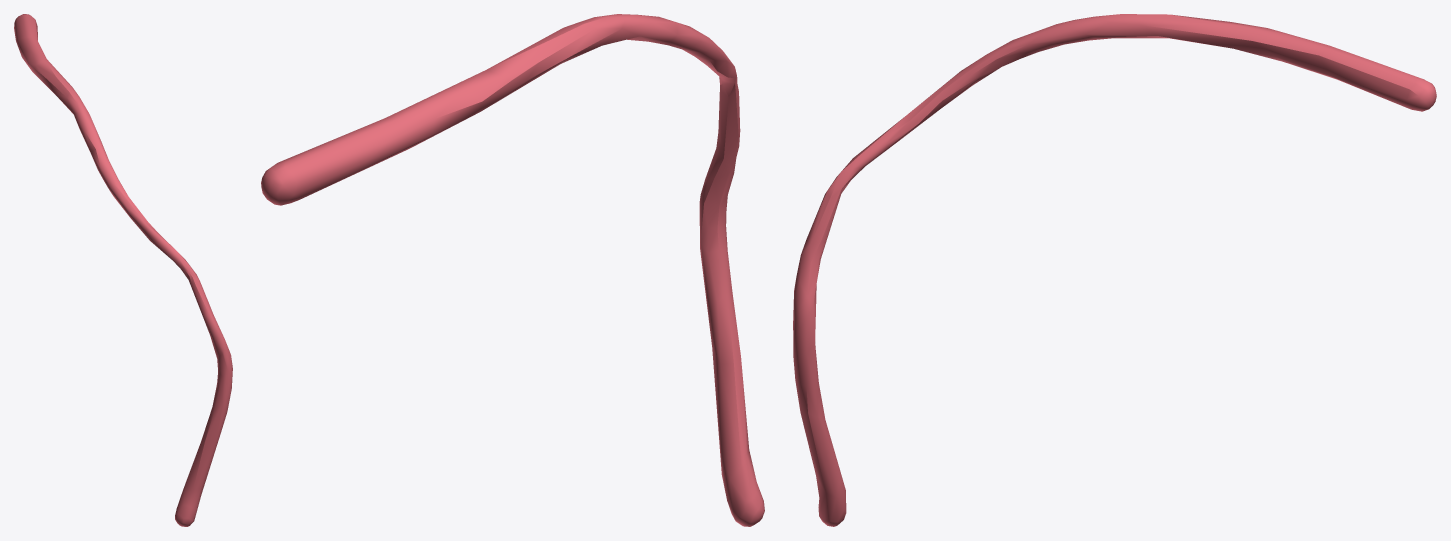
File: fma79551_fj5102.glb
3 views of the same model, side by side, from view 1: azimuth 30°, elevation 25°; view 2: azimuth 150°, elevation 25°; view 3: azimuth 270°, elevation 25° (orthographic). The views are drawn at different scales.
Visible parts, largest first — view 1: FMA79551_FJ5102; view 2: FMA79551_FJ5102; view 3: FMA79551_FJ5102.
Boxes of the visible parts, x1=… form: FMA79551_FJ5102: x1=14, y1=14, x2=232, y2=526; FMA79551_FJ5102: x1=261, y1=14, x2=764, y2=526; FMA79551_FJ5102: x1=793, y1=14, x2=1436, y2=526.
Bounding box in the file's own units: 0.00844 × 0.0323 × 0.0372.
